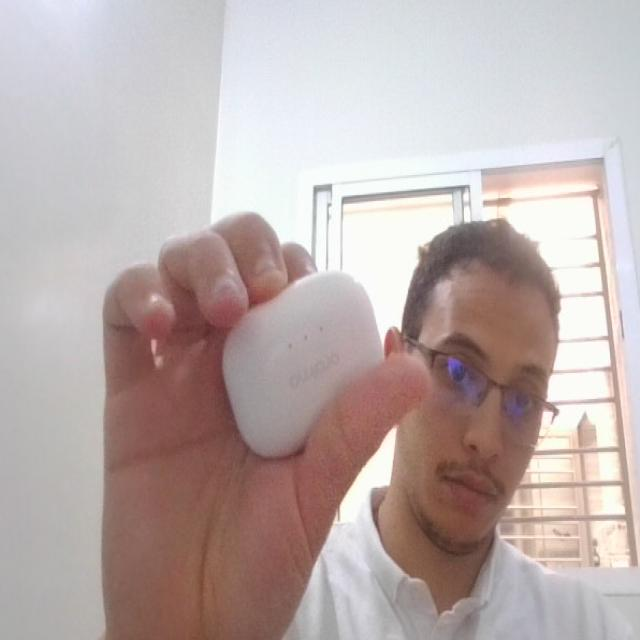airpods: (218, 272, 388, 470)
